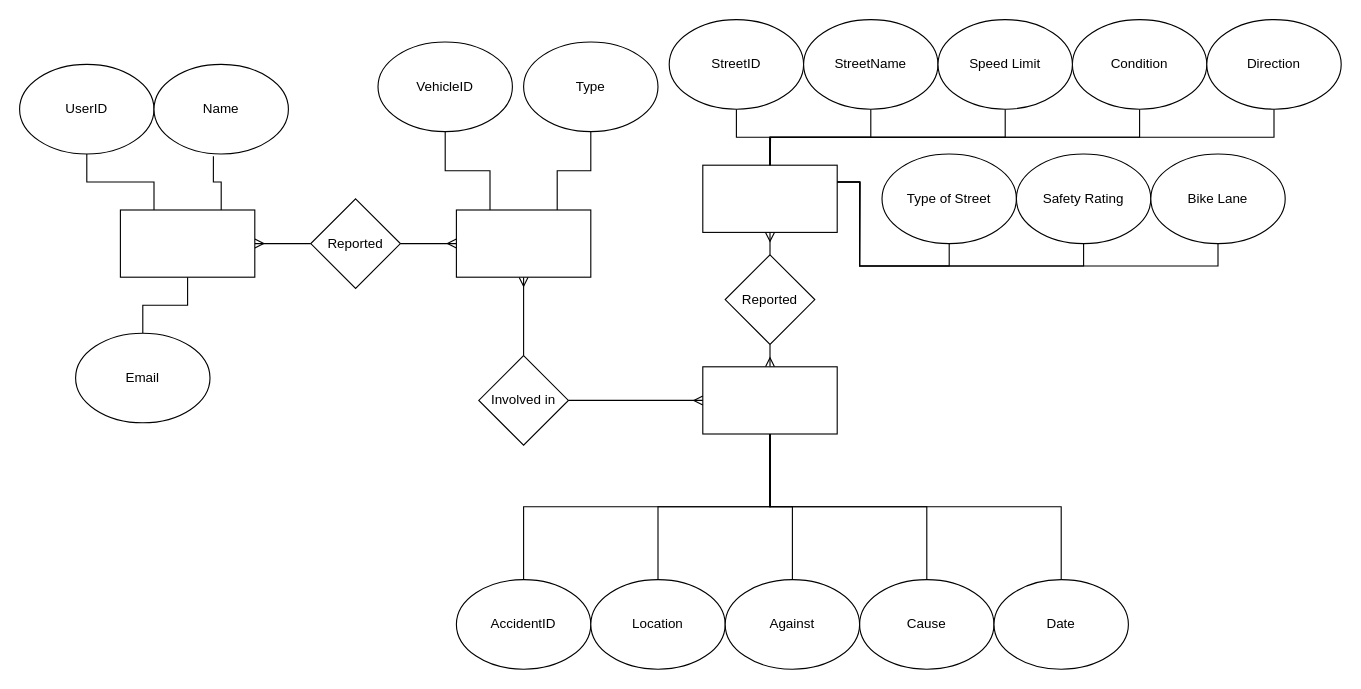
Image size: 1361x689. Some labels were removed from this diagram. Each missing label, with the centre of its shape:
"Accident" belongs at [769,400].
"Person" belongs at [187,243].
"Street" belongs at [769,198].
"Vehicle" belongs at [523,243].
